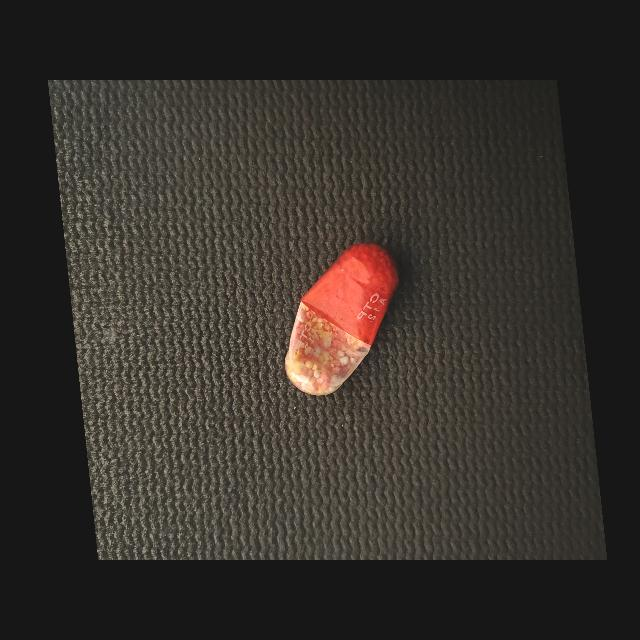Defective Capsule: (285, 243, 399, 396)
